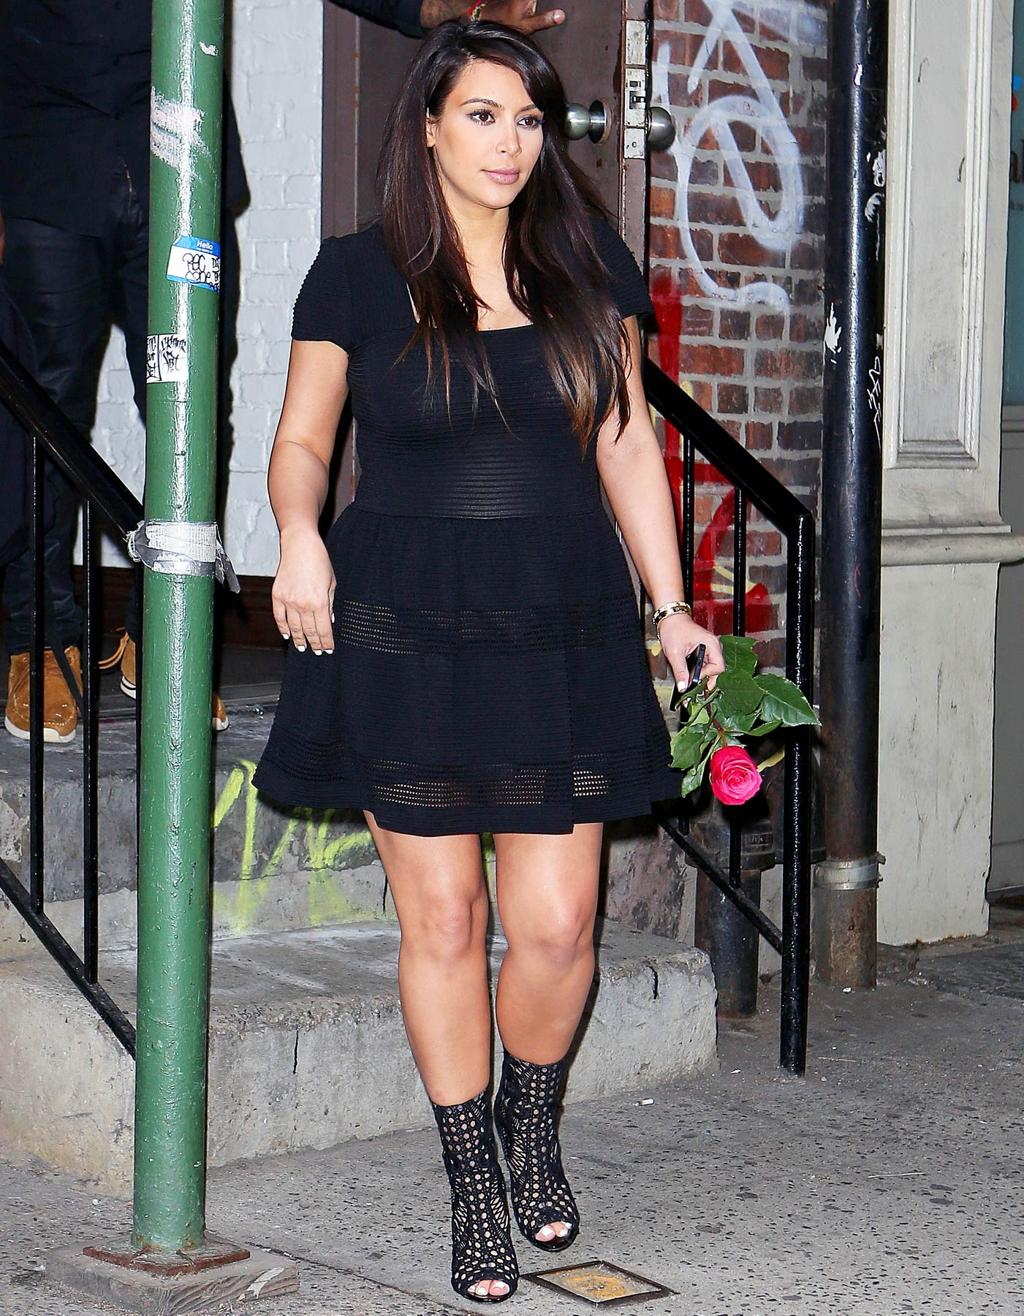face: (436, 56, 539, 205)
